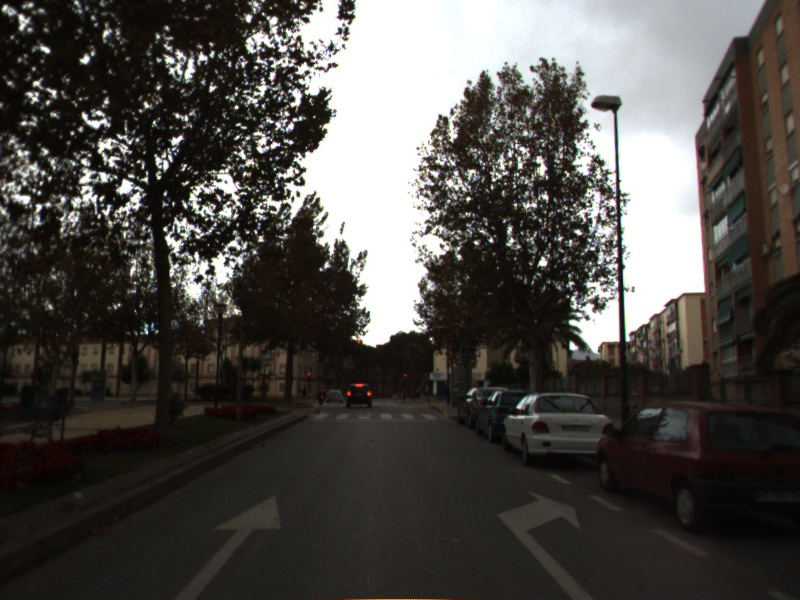RIGHT: (495, 487, 597, 600)
STRAIGHT: (170, 491, 288, 600)
